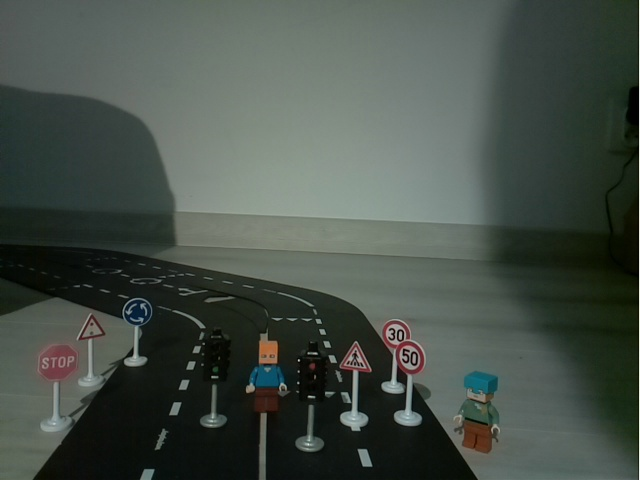green light: (200, 326, 233, 433)
limit 30: (381, 317, 405, 396)
limit 50: (399, 341, 425, 430)
pedestrian sign: (337, 338, 374, 432)
person: (453, 366, 506, 458), (245, 337, 290, 415)
red light: (295, 341, 327, 456)
round: (118, 296, 154, 370)
stop: (36, 341, 78, 436)
traffic light sign: (78, 313, 106, 389)
